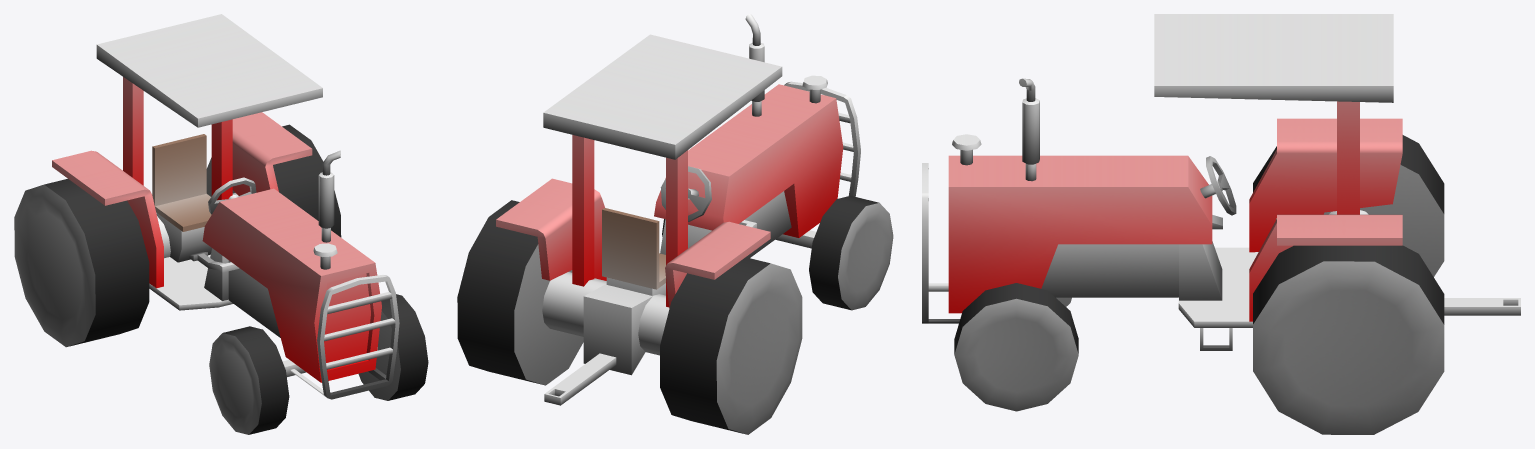
File: Tractor.FBX
3 renders of one model, left to right at view 1: azimuth 30°, elevation 25°; view 2: azimuth 150°, elevation 25°; view 3: azimuth 270°, elevation 25°, orthographic. The views are drawn at different scales.
Visible parts, largest first — view 1: Tractor; view 2: Tractor; view 3: Tractor.
Boxes of the visible parts, x1,y1,x2,y2 form: Tractor: (14,14,428,434); Tractor: (457,14,893,434); Tractor: (922,14,1520,434).
Bounding box in the file's own units: 354 × 356 × 615.
1 material, 1 textured.
